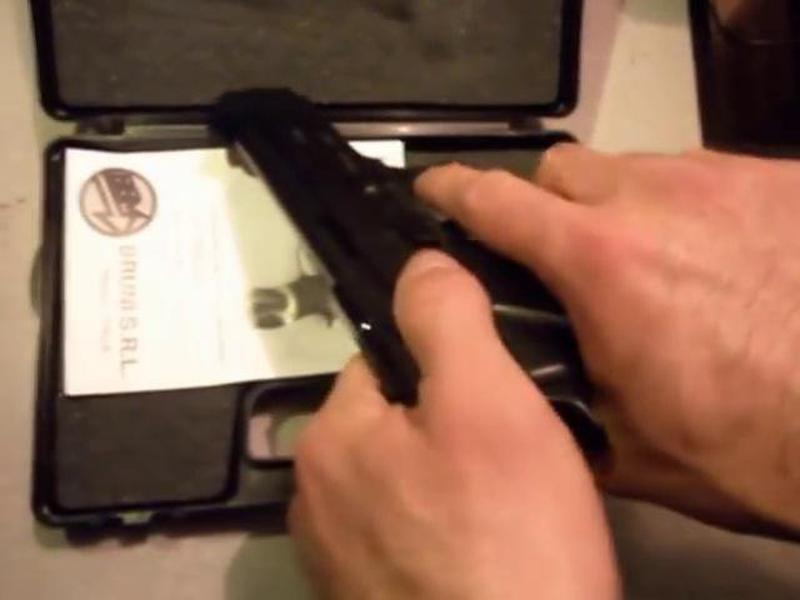Pistola: (183, 61, 678, 426)
